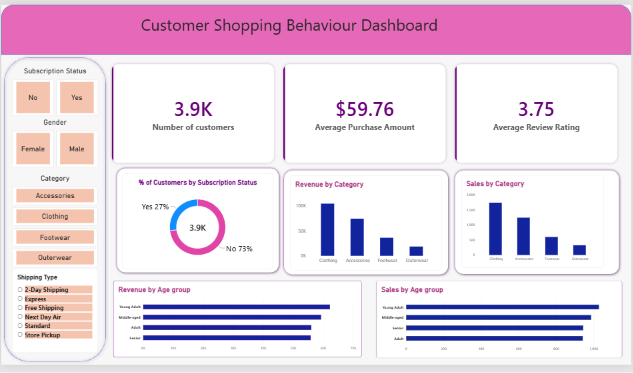

The page's visual inventory and layout, read from the dashboard file:
{"tool":"powerbi","page":{"name":"Page 1","canvas":[2100,1200],"ordinal":0},"visuals":[{"type":"cardVisual","fields":{"Data":["customer_shopping_behavior_cleaned.Number of customers","customer_shopping_behavior_cleaned.Average Purchase Amount","customer_shopping_behavior_cleaned.Average Review Rating"]},"box":[357.9,185.6,1709.9,352.6],"z":0},{"type":"shape","box":[0,0,2099.6,167],"z":1000},{"type":"textbox","box":[0,31,1920.7,93.1],"z":2000},{"type":"shape","box":[375,537.5,557.5,365],"z":3000},{"type":"donutChart","title":"% of Customers by Subscription Status","fields":{"Category":["customer_shopping_behavior_cleaned.subscription_status"],"Y":["CountNonNull(customer_shopping_behavior_cleaned.customer_id)"]},"box":[402.5,562.5,502.5,317.5],"z":4000},{"type":"shape","box":[933.2,543.5,565,365],"z":5000},{"type":"shape","box":[1503.1,543.5,564.7,363.2],"z":6000},{"type":"clusteredColumnChart","title":"Revenue by Category","fields":{"Category":["customer_shopping_behavior_cleaned.category"],"Y":["Sum(customer_shopping_behavior_cleaned.purchase_amount)"]},"box":[962.3,570,503.7,315.5],"z":7000},{"type":"clusteredColumnChart","title":"Sales by Category","fields":{"Category":["customer_shopping_behavior_cleaned.category"],"Y":["CountNonNull(customer_shopping_behavior_cleaned.customer_id)"]},"box":[1532.3,567.3,474.5,310.2],"z":8000},{"type":"shape","box":[0,167.5,357.5,1032.5],"z":9000},{"type":"advancedSlicerVisual","title":"Subscription Status","fields":{"Values":["customer_shopping_behavior_cleaned.subscription_status"]},"box":[37.5,207.5,285,165],"z":10000},{"type":"advancedSlicerVisual","title":"Gender","fields":{"Values":["customer_shopping_behavior_cleaned.gender"]},"box":[37.1,376.4,285,165],"z":11000},{"type":"advancedSlicerVisual","title":"Category","fields":{"Values":["customer_shopping_behavior_cleaned.category"]},"box":[37.5,562.5,285,315],"z":12000},{"type":"listSlicer","title":"Shipping Type","fields":{"Values":["customer_shopping_behavior_cleaned.shipping_type"]},"box":[37.5,880,285,280],"z":13000},{"type":"clusteredBarChart","title":"Revenue by Age group","fields":{"Category":["customer_shopping_behavior_cleaned.age_group"],"Y":["Sum(customer_shopping_behavior_cleaned.purchase_amount)"]},"box":[373.8,919.9,827.5,255],"z":14000},{"type":"clusteredBarChart","title":"Sales by Age group","fields":{"Category":["customer_shopping_behavior_cleaned.age_group"],"Y":["CountNonNull(customer_shopping_behavior_cleaned.customer_id)"]},"box":[1248.6,919.9,819.2,257.1],"z":17000}]}

Visuals, with their boxes on the page's 2100x1200 design canvas (x1, y1, x2, y2). These are canvas units, not pixel positions in the 633x373 screenshot, which may show the page scaled, cropped or inside an application window:
cardVisual - customer_shopping_behavior_cleaned.Number of customers x customer_shopping_behavior_cleaned.Average Purchase Amount: <box>358,186,2068,538</box>
shape: <box>0,0,2100,167</box>
textbox: <box>0,31,1921,124</box>
shape: <box>375,538,932,902</box>
"% of Customers by Subscription Status" donutChart: <box>402,562,905,880</box>
shape: <box>933,544,1498,908</box>
shape: <box>1503,544,2068,907</box>
"Revenue by Category" clusteredColumnChart: <box>962,570,1466,886</box>
"Sales by Category" clusteredColumnChart: <box>1532,567,2007,878</box>
shape: <box>0,168,358,1200</box>
"Subscription Status" advancedSlicerVisual: <box>38,208,322,372</box>
"Gender" advancedSlicerVisual: <box>37,376,322,541</box>
"Category" advancedSlicerVisual: <box>38,562,322,878</box>
"Shipping Type" listSlicer: <box>38,880,322,1160</box>
"Revenue by Age group" clusteredBarChart: <box>374,920,1201,1175</box>
"Sales by Age group" clusteredBarChart: <box>1249,920,2068,1177</box>
